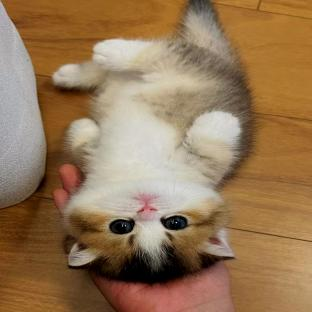Animal: (53, 0, 254, 282)
